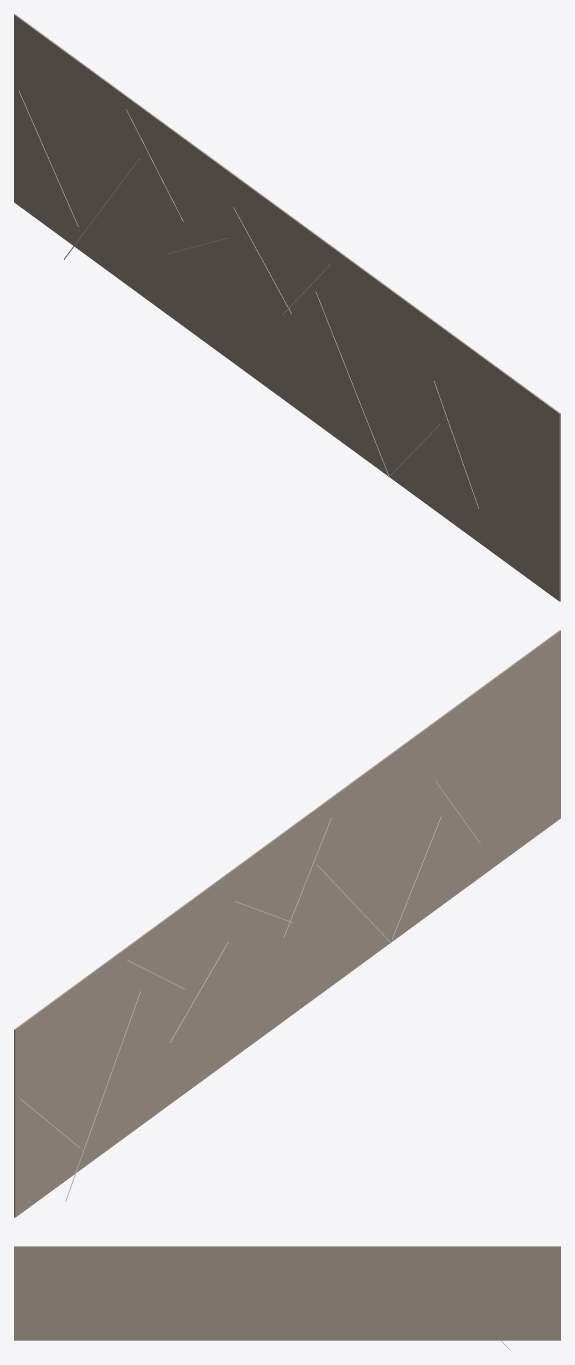
The model's file is R5_FeatureWall_West.obj.
3 renders of one model, top to bottom at view 1: azimuth 30°, elevation 25°; view 2: azimuth 150°, elevation 25°; view 3: azimuth 270°, elevation 25°, orthographic. The views are drawn at different scales.
Visible parts, largest first — view 1: Panel, Inlays; view 2: Panel, Inlays; view 3: Panel.
Part boxes in pixels (x1,y1,x2,y2): Panel: [14, 14, 560, 601]; Inlays: [18, 91, 478, 508]; Panel: [14, 630, 560, 1217]; Inlays: [20, 781, 480, 1201]; Panel: [14, 1246, 560, 1340].
Size of the model in its own units: 0.025 by 2.93 by 13.9.
